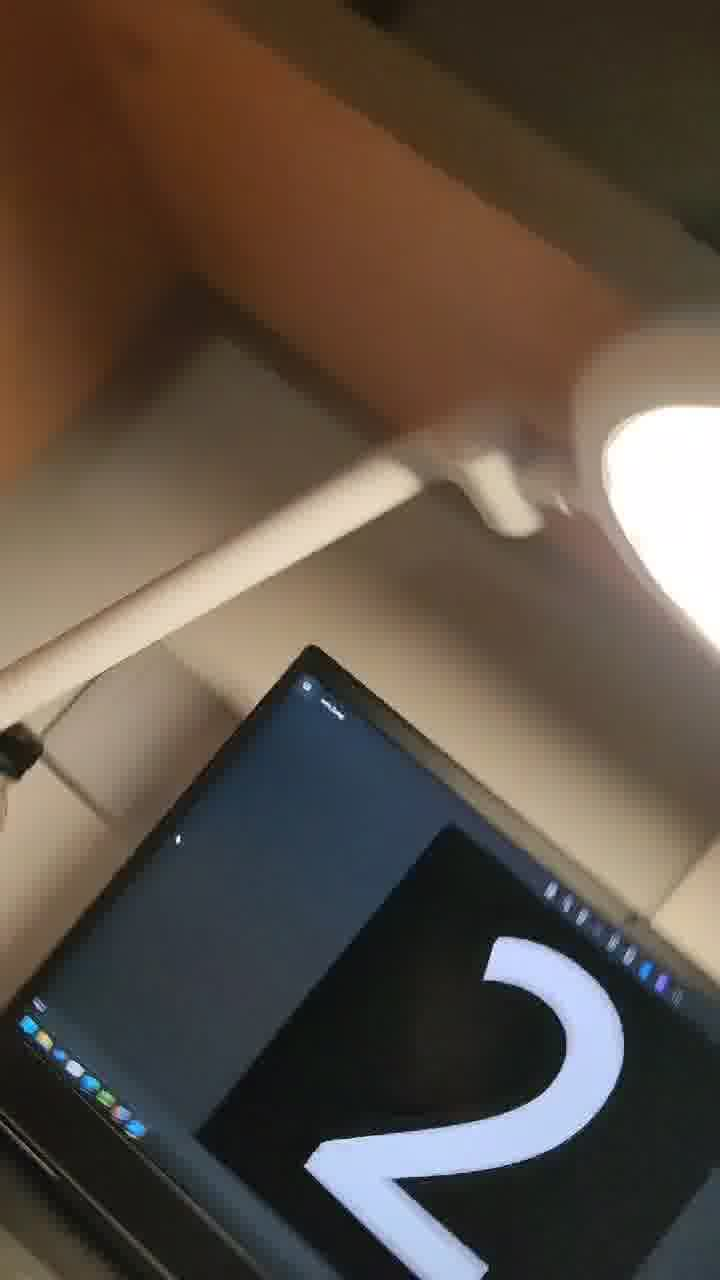two: (296, 875, 658, 1280)
